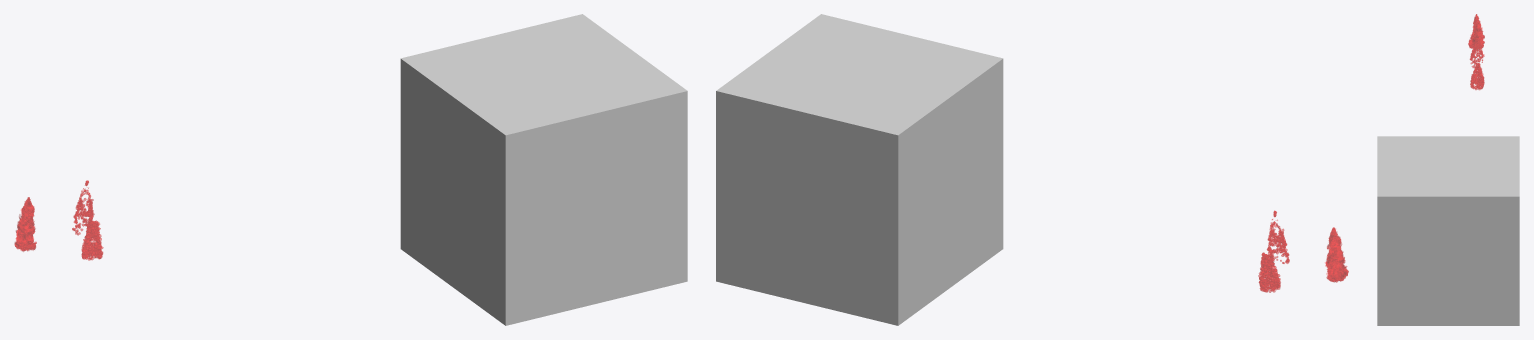
The picture shows the model from 3 angles, left to right: view 1: azimuth 30°, elevation 25°; view 2: azimuth 150°, elevation 25°; view 3: azimuth 270°, elevation 25°; orthographic projection. The views are drawn at different scales.
Visible parts, largest first — view 1: Cube, brush_Splatter_g0_b0_3, brush_MatteHull_g0_b0_4, brush_MatteHull_g0_b2_6; view 2: Cube, brush_Splatter_g0_b0_3, brush_MatteHull_g0_b0_4, brush_MatteHull_g0_b2_6; view 3: Cube, brush_MatteHull_g0_b0_4, brush_Splatter_g0_b0_3, brush_MatteHull_g0_b2_6, brush_MatteHull_g0_b1_5.
Part boxes in pixels (bbox=[...]): Cube: bbox=[400, 14, 687, 325]; brush_Splatter_g0_b0_3: bbox=[14, 199, 35, 250]; brush_MatteHull_g0_b0_4: bbox=[81, 220, 103, 260]; brush_MatteHull_g0_b2_6: bbox=[72, 180, 94, 235]; Cube: bbox=[716, 14, 1003, 325]; brush_Splatter_g0_b0_3: bbox=[1325, 228, 1347, 282]; brush_MatteHull_g0_b0_4: bbox=[1258, 252, 1280, 292]; brush_MatteHull_g0_b2_6: bbox=[1267, 210, 1289, 263]; Cube: bbox=[1377, 136, 1519, 325]; brush_MatteHull_g0_b0_4: bbox=[1470, 63, 1484, 89]; brush_Splatter_g0_b0_3: bbox=[1469, 15, 1484, 47]; brush_MatteHull_g0_b2_6: bbox=[1470, 32, 1484, 68]; brush_MatteHull_g0_b1_5: bbox=[1468, 14, 1484, 48].
Size of the model in its own units: 6.57 by 2 by 2.
